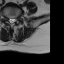CCS_normal: (10, 16, 13, 25)
LFS_normal: (15, 15, 18, 22)
LLS_normal: (13, 17, 15, 24)
RFS_severe_stenosis: (6, 15, 8, 22)
RLS_normal: (8, 16, 11, 23)
